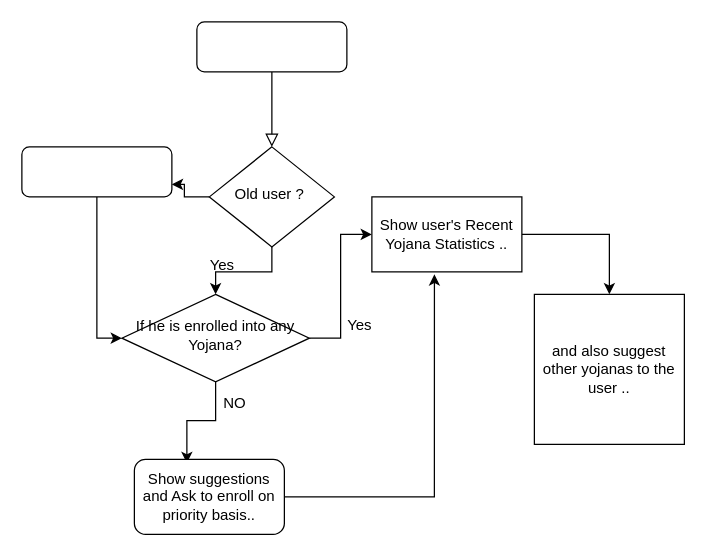
The diagram is 706 pixels wide and 556 high, and some of its shapes have lost their labels. The shapes that lost their labels are listed below. From the top down, each one's centre as x and y in pixels, then its label:
the point at 271,46: User enters into website
the point at 96,171: Ask for Log in
